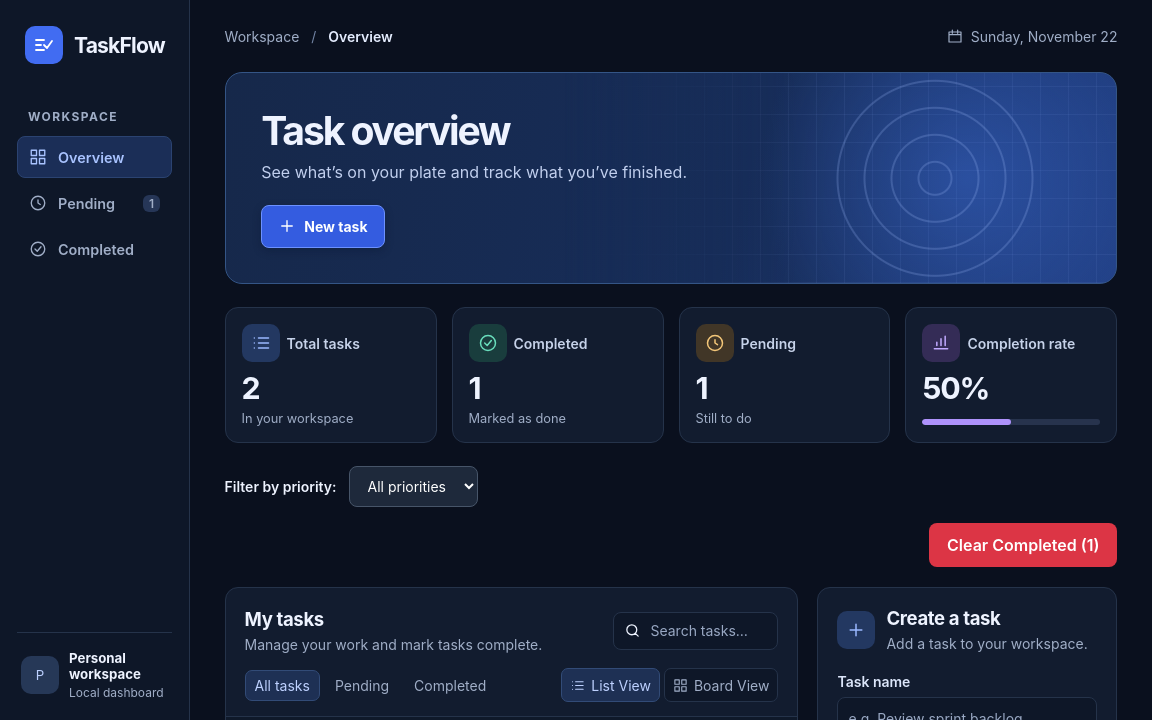
Test: TaskFlow › uses the shared editor and delete confirmation from the board
The width and height of the screenshot is (1152, 720).
Click the button "Board View": coordinates (721, 685) 664,668 -> 778,702
(page scrolled)
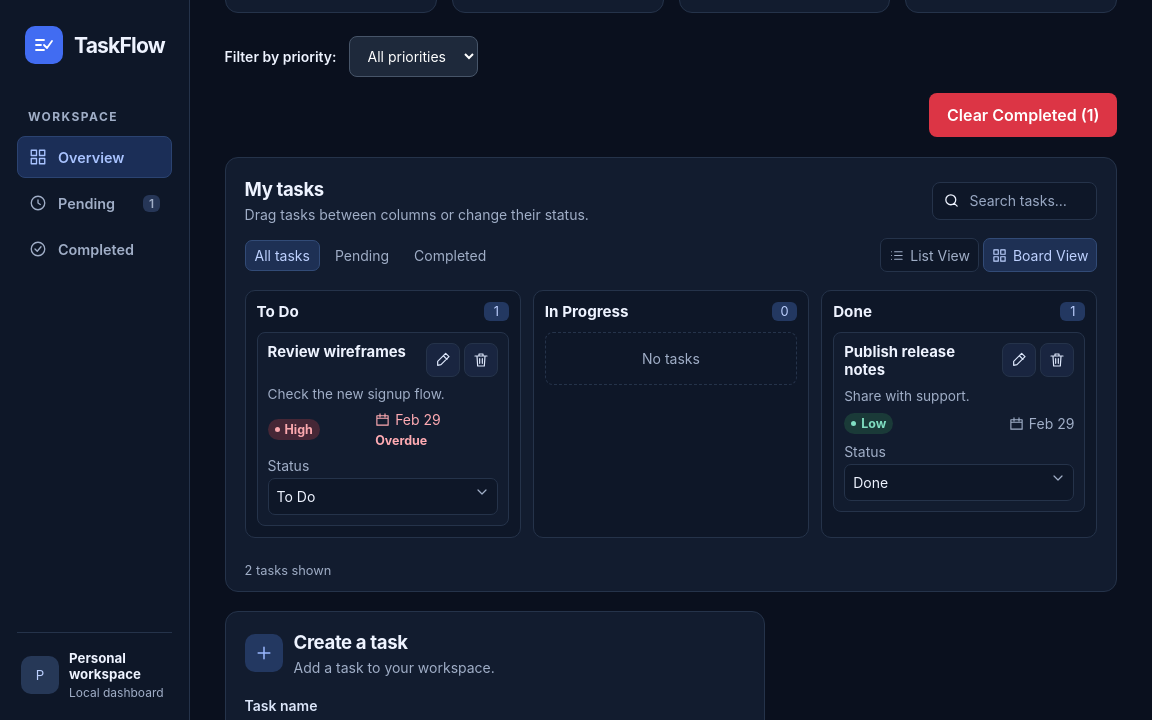
Click the button named "Edit: Review wireframes": coordinates (443, 360) 426,343 -> 460,377
(page scrolled)
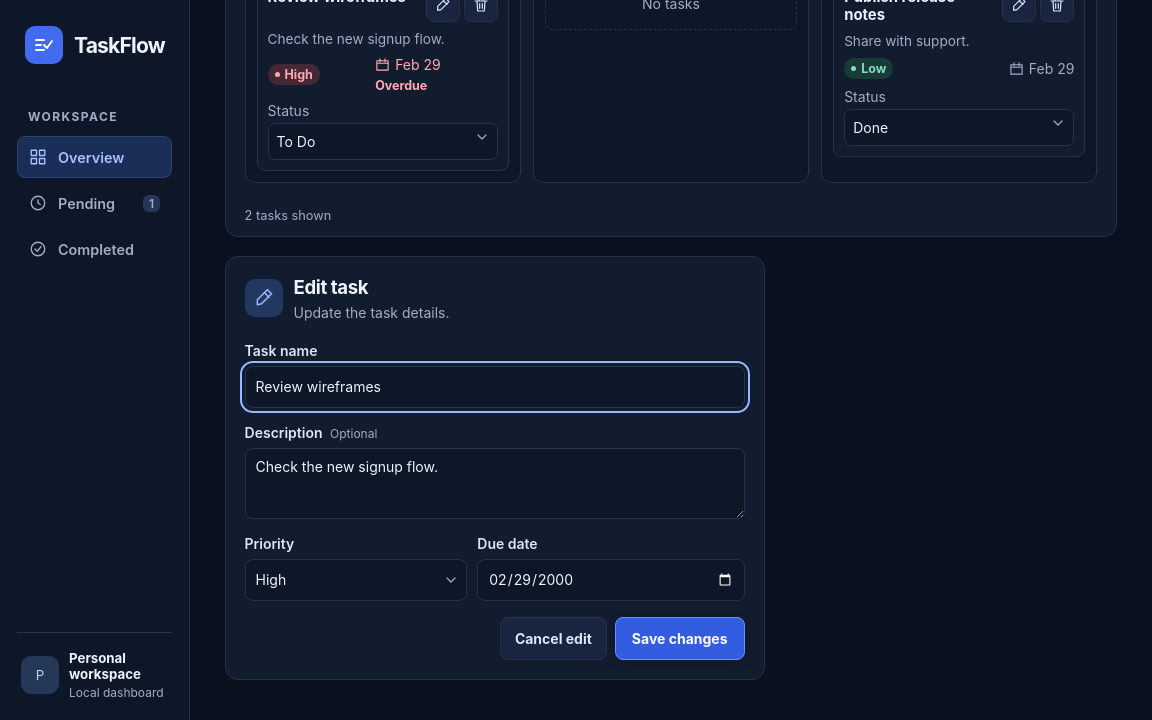
Replace the text in the field labelled "Task name" with "Review prototypes": coordinates (494, 387) 244,366 -> 744,408
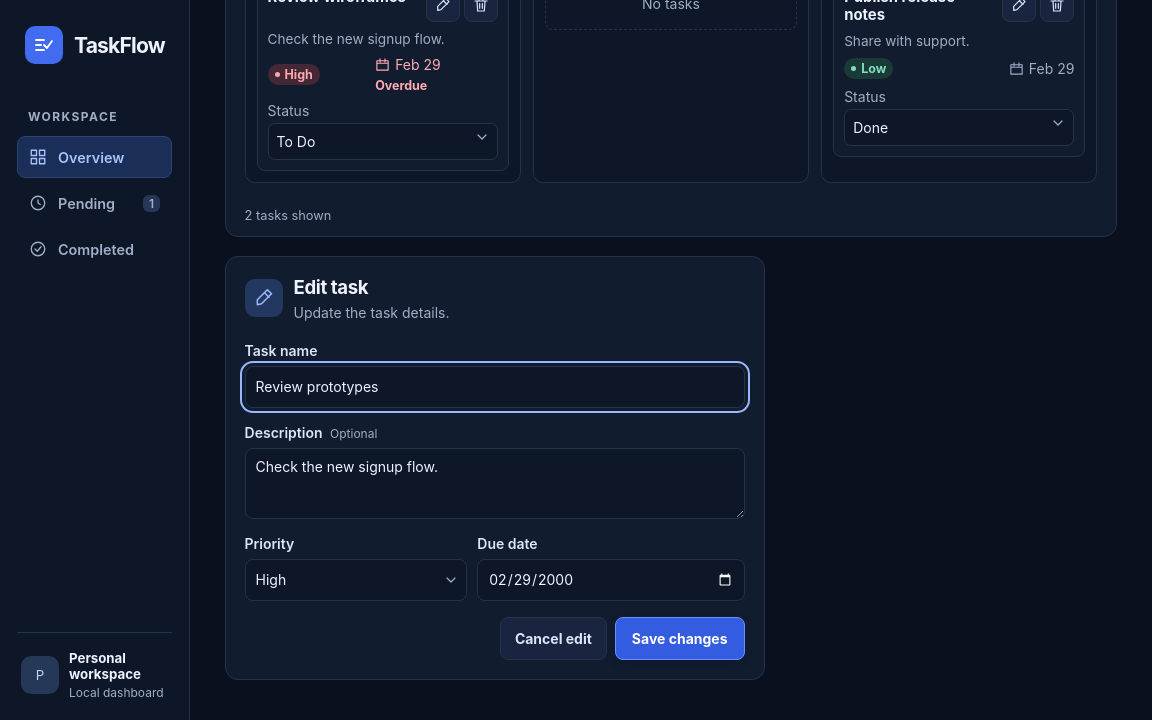
Click the button "Save changes": coordinates (680, 638) 615,617 -> 745,660
(page scrolled)
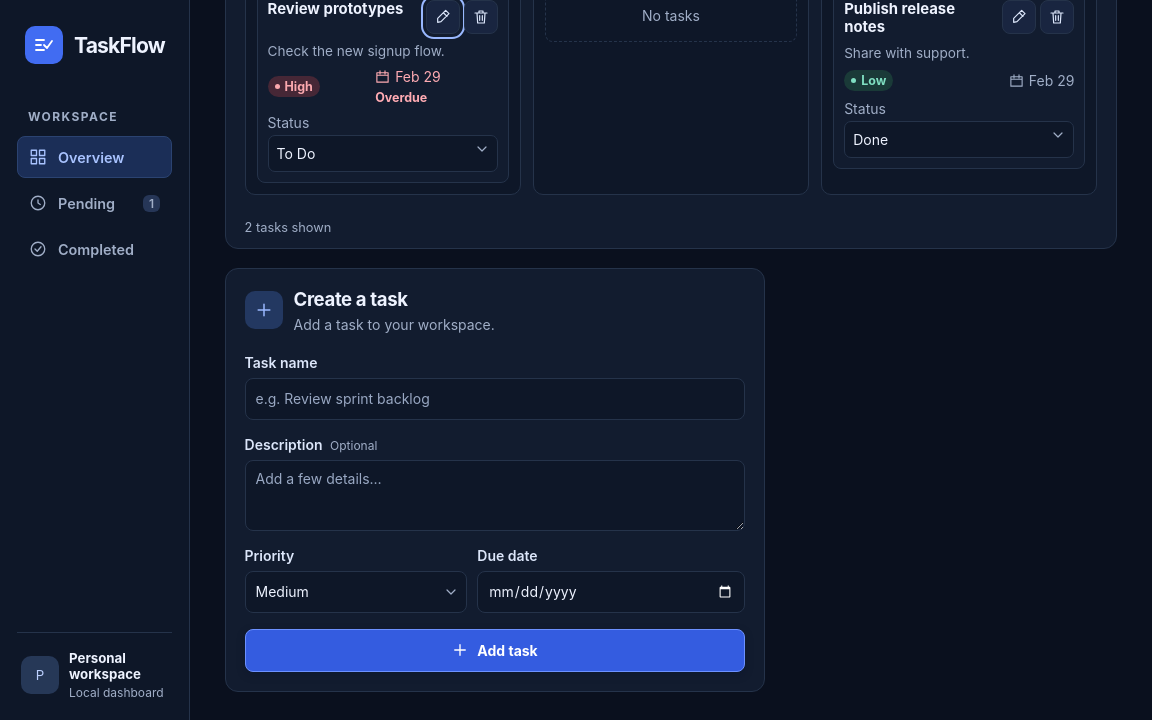
Expected: the heading "Review prototypes" is shown, 268,0 -> 418,18
Click the button named "Delete: Review prototypes": coordinates (481, 17) 464,0 -> 498,34
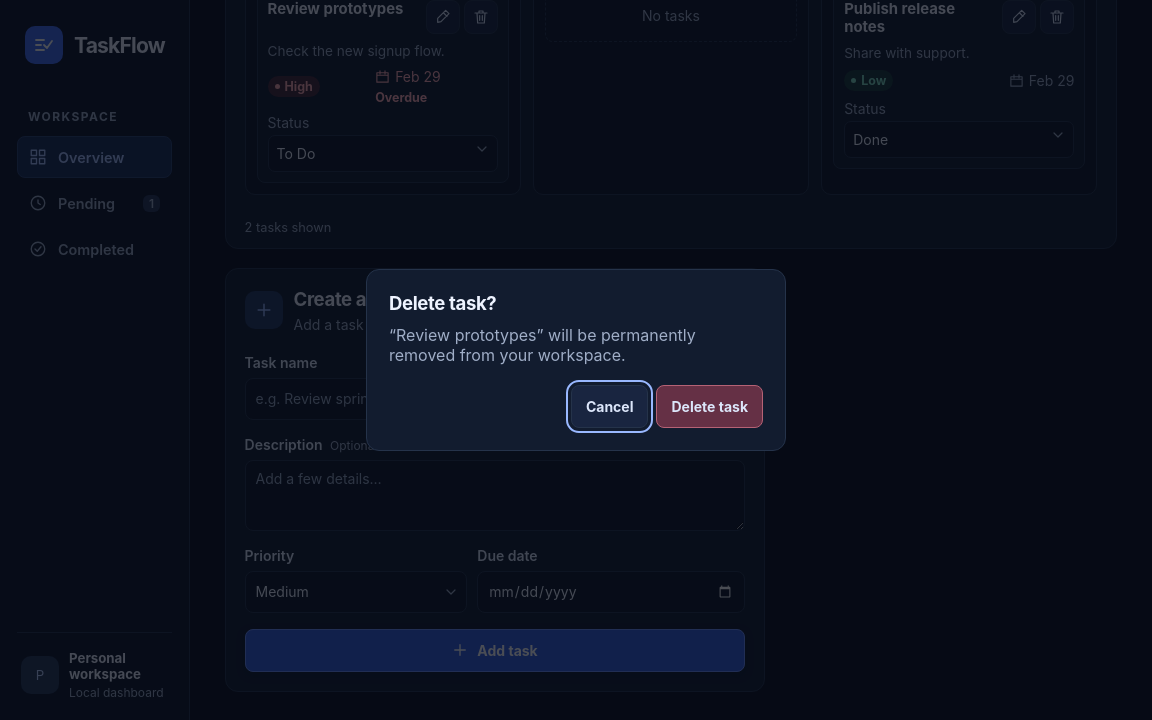
Click the button "Delete task": coordinates (710, 406) 656,385 -> 763,428
(page scrolled)
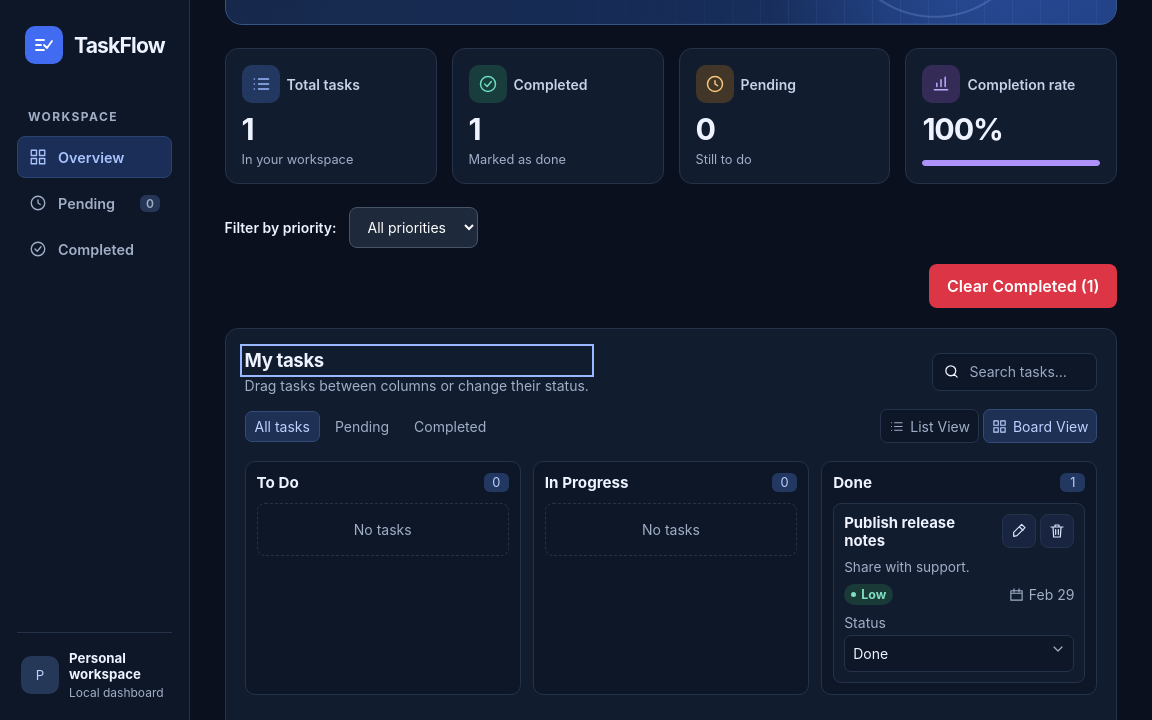
Expected: the heading "Review prototypes" is gone
